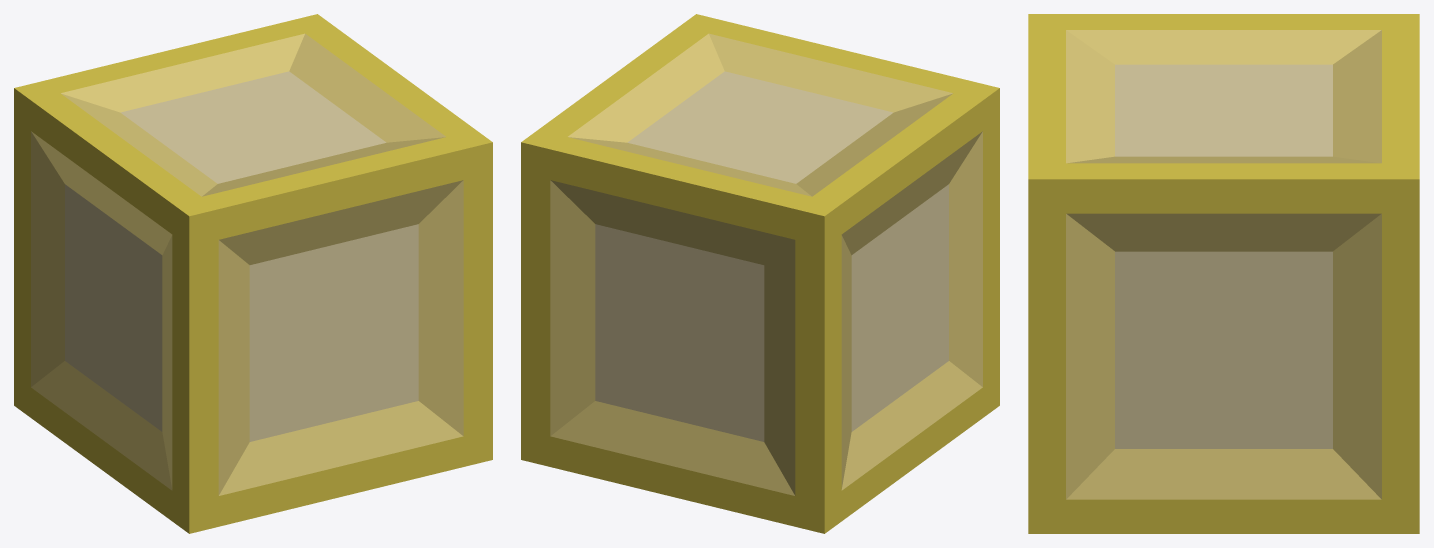
Rendered from CubeYellow.fbx.
3 renders of one model, left to right at view 1: azimuth 30°, elevation 25°; view 2: azimuth 150°, elevation 25°; view 3: azimuth 270°, elevation 25°, orthographic. The views are drawn at different scales.
Visible parts, largest first — view 1: Cube.002; view 2: Cube.002; view 3: Cube.002.
Boxes of the visible parts, x1,y1,x2,y2 form: Cube.002: (14,14,492,533); Cube.002: (521,14,999,533); Cube.002: (1028,14,1419,533).
Size of the model in its own units: 109 by 109 by 109.
